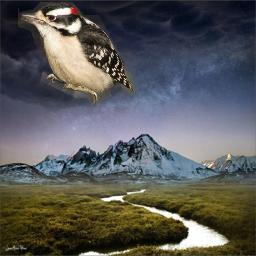Woodpecker: (18, 2, 135, 105)
